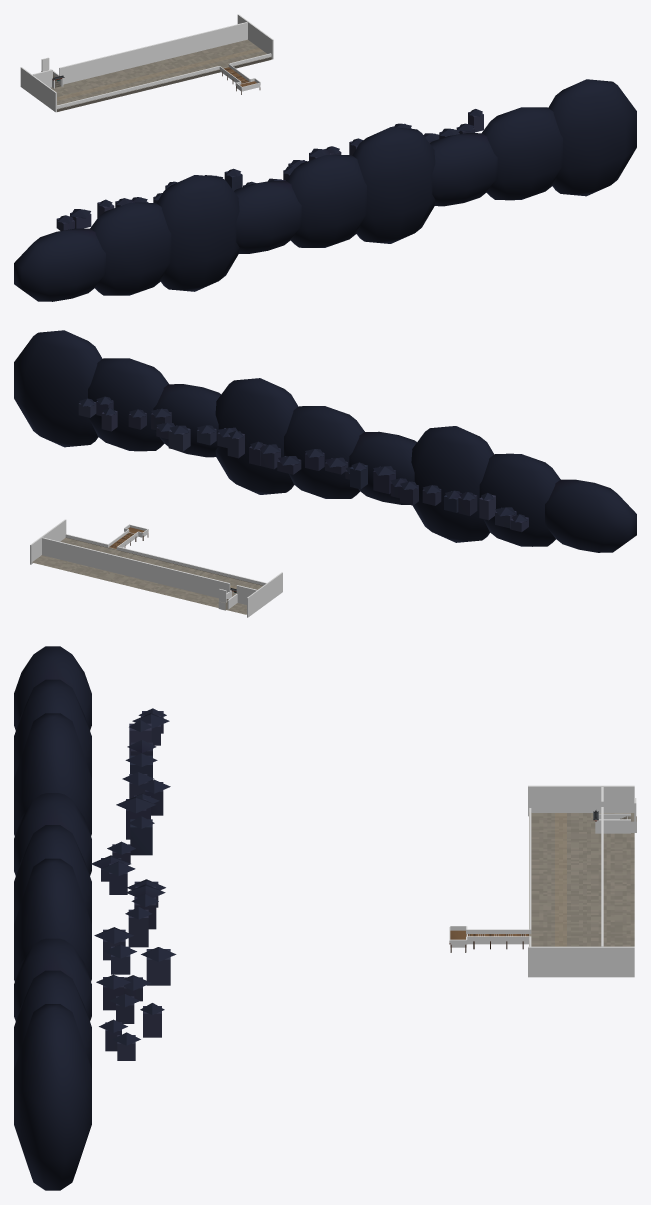
File: market.glb
3 views of the same model, one above another, from view 1: azimuth 30°, elevation 25°; view 2: azimuth 150°, elevation 25°; view 3: azimuth 270°, elevation 25° (orthographic). The views are drawn at different scales.
Visible parts, largest first — view 1: market, COL_market, GROUND_market; view 2: market, COL_market, GROUND_market; view 3: market, GROUND_market, COL_market.
Boxes of the visible parts, x1,y1,x2,y2 form: market: [14, 56, 636, 301]; COL_market: [20, 14, 273, 112]; GROUND_market: [50, 39, 266, 105]; market: [14, 330, 636, 609]; COL_market: [30, 519, 282, 617]; GROUND_market: [32, 537, 262, 614]; market: [14, 646, 636, 1190]; GROUND_market: [531, 813, 634, 946]; COL_market: [449, 785, 636, 977].
Bounding box in the file's own units: 264 × 47.98 × 152.
